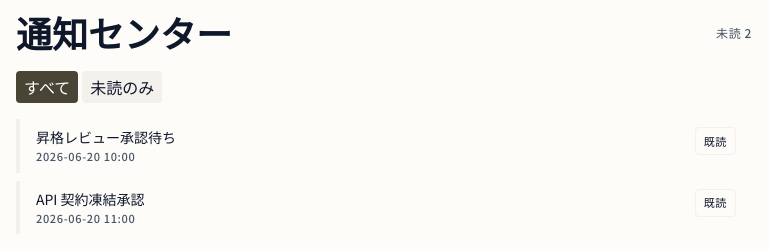
Test case: T-UC-36 NotificationsContainer › marks a notification read (persisted to localStorage)
This screenshot has width=769, height=251.
Click the button with aria-label "昇格レビュー承認待ち を既読にする".
click(715, 141)  # box 695,127 -> 736,155
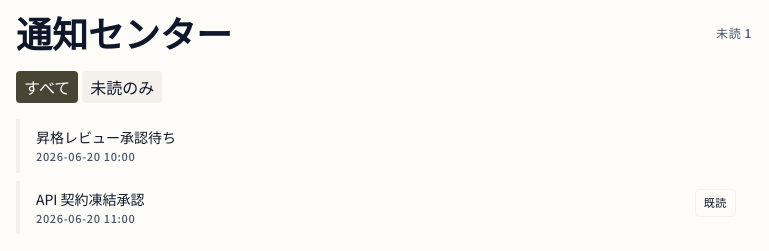
Expected: the text named "未読 1 件" is shown, 716,24 -> 752,42
